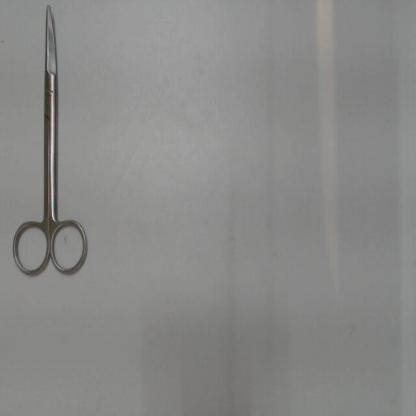Curved Mayo Scissors: (7, 2, 94, 283)
